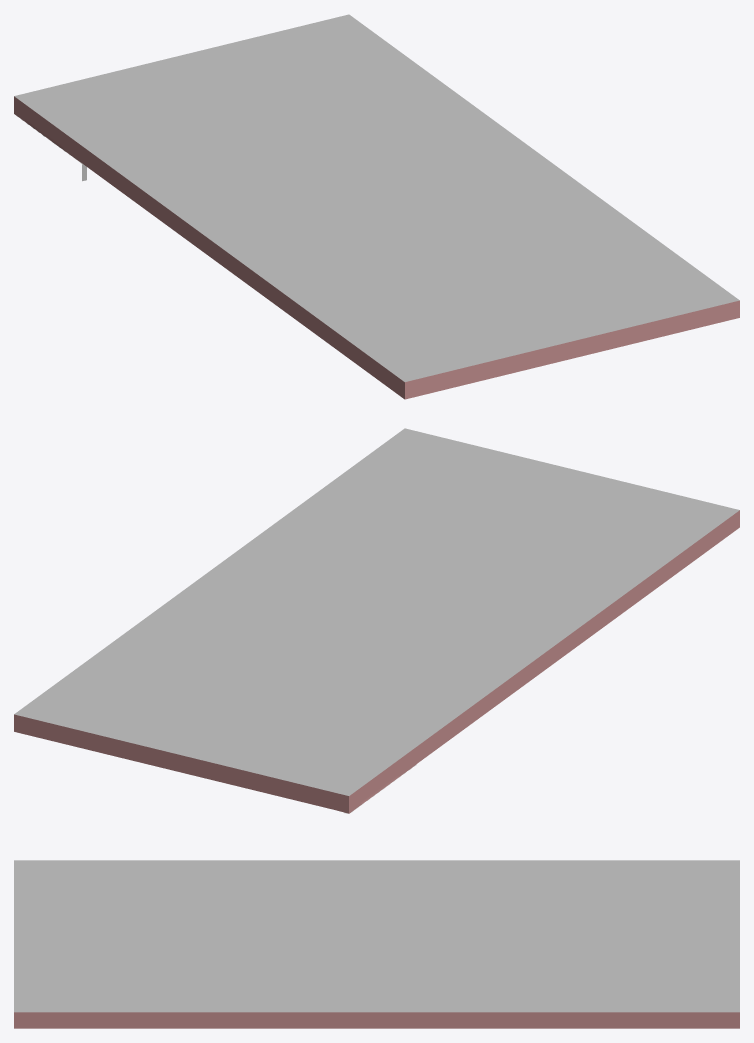
Rendered from 21a96bfe-1d2f-4913-a727-8c72a07cf272-003cfdb8.glb.
3 views of the same model, one above another, from view 1: azimuth 30°, elevation 25°; view 2: azimuth 150°, elevation 25°; view 3: azimuth 270°, elevation 25° (orthographic). The views are drawn at different scales.
Visible parts, largest first — view 1: sopnet4; view 2: sopnet4; view 3: sopnet4.
Part boxes in pixels (x1,y1,x2,y2): sopnet4: [14, 14, 739, 399]; sopnet4: [14, 428, 739, 813]; sopnet4: [14, 860, 739, 1028].
Size of the model in its own units: 3.66 by 0.37 by 7.39.
